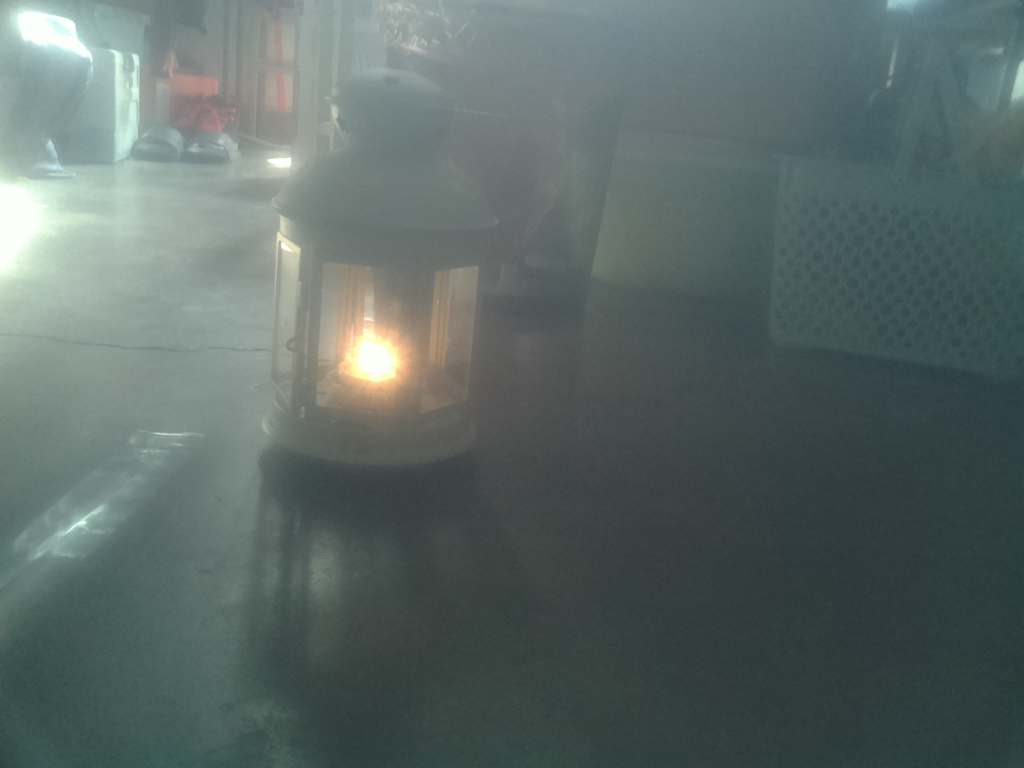fire: (326, 297, 425, 422)
